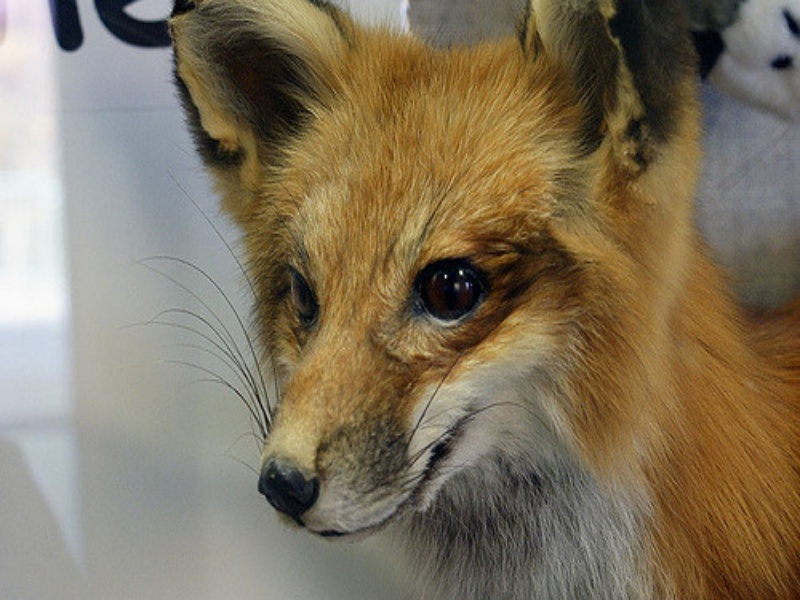fox: (164, 1, 800, 595)
